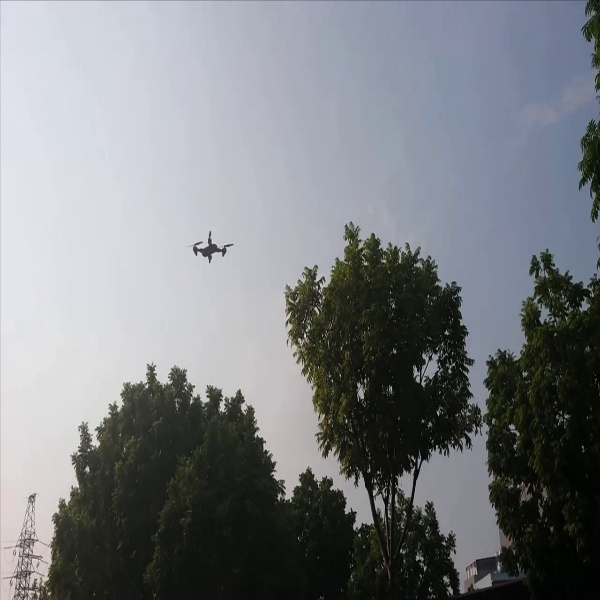drone: (185, 230, 235, 269)
